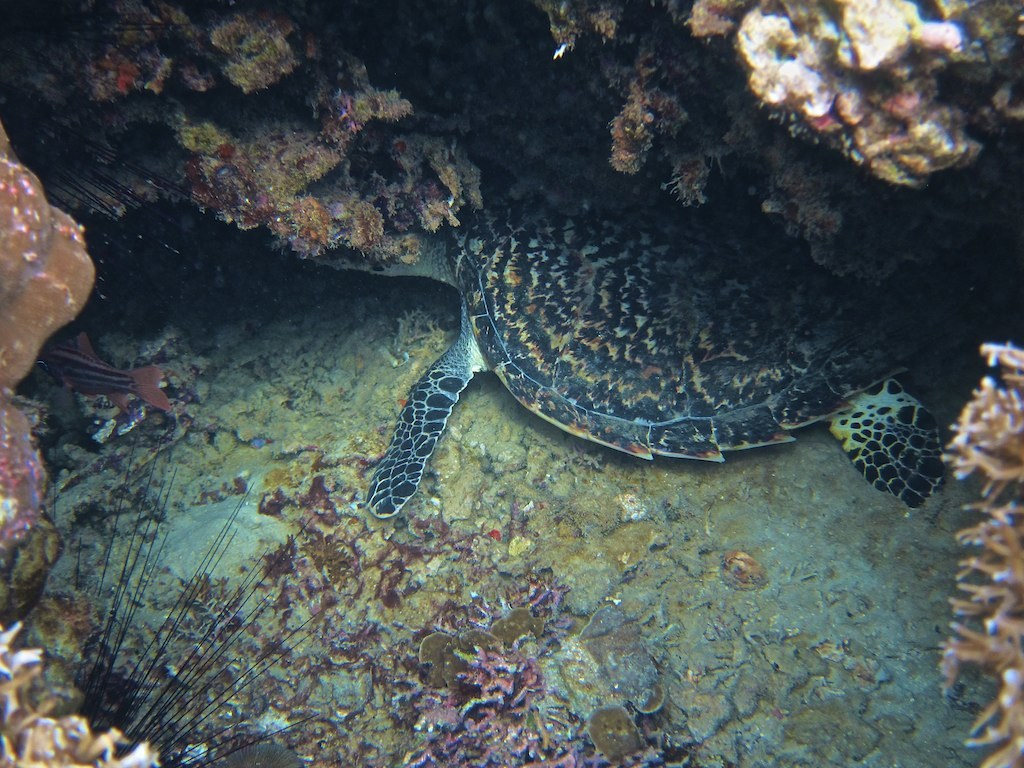Sea turtles: (298, 159, 967, 527)
